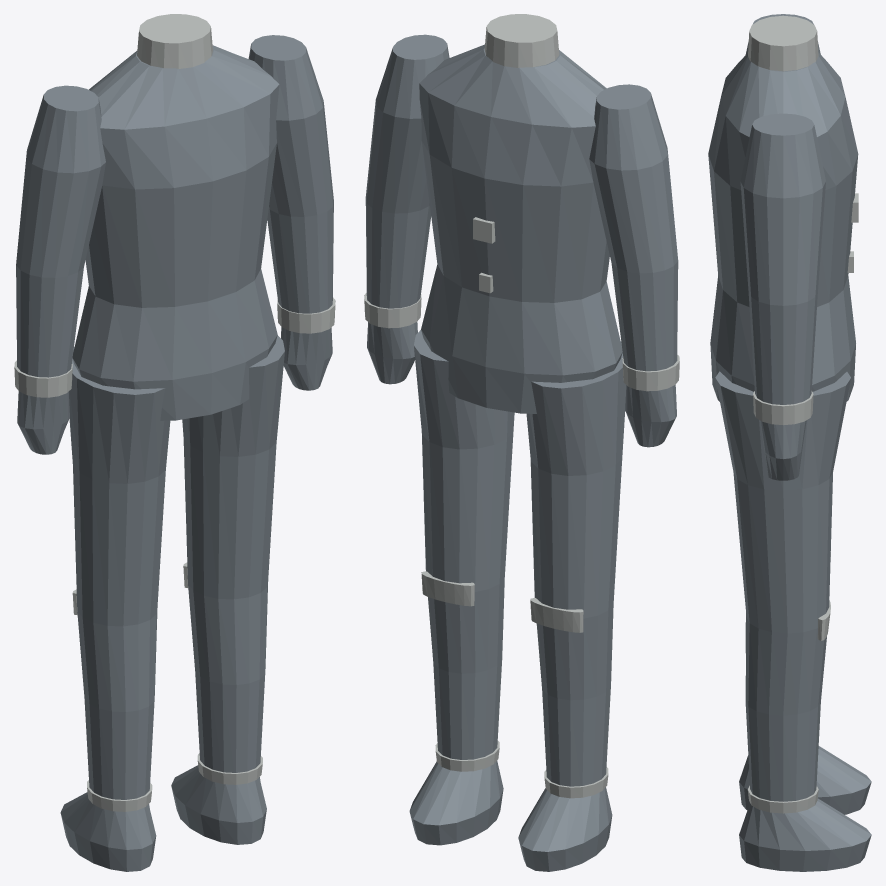
Rendered from visual-far.glb.
The picture shows the model from 3 angles, left to right: view 1: azimuth 30°, elevation 25°; view 2: azimuth 150°, elevation 25°; view 3: azimuth 270°, elevation 25°; orthographic projection.
Parts seen in each view (by area): view 1: 精细体素学龄儿童身体母版; view 2: 精细体素学龄儿童身体母版; view 3: 精细体素学龄儿童身体母版.
Boxes of the visible parts, left/top/right/bottom form: 精细体素学龄儿童身体母版: left=14, top=14, right=335, bottom=871; 精细体素学龄儿童身体母版: left=364, top=14, right=679, bottom=871; 精细体素学龄儿童身体母版: left=708, top=14, right=871, bottom=871.
Bounding box in the file's own units: 0.4019 × 0.997 × 0.1847.
Materials: 2 (2 with a texture image).
